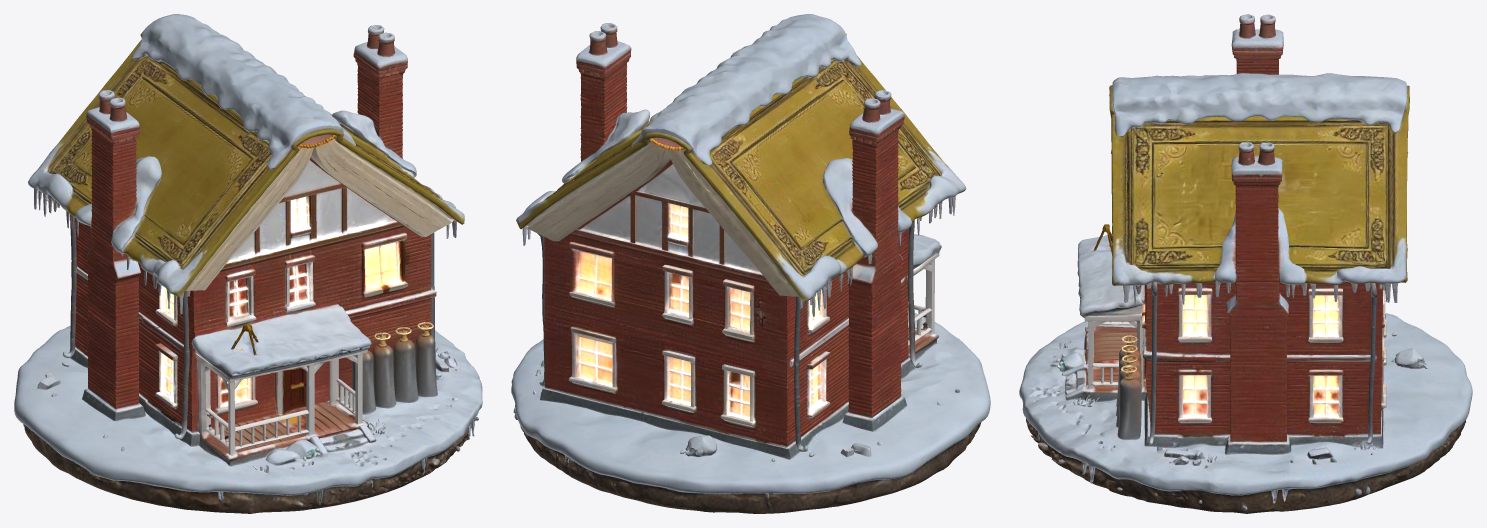
The model's file is poison-belt.glb.
The picture shows the model from 3 angles, left to right: view 1: azimuth 30°, elevation 25°; view 2: azimuth 150°, elevation 25°; view 3: azimuth 270°, elevation 25°; orthographic projection. The views are drawn at different scales.
Visible parts, largest first — view 1: model; view 2: model; view 3: model.
Part boxes in pixels (x1=…): model: x1=14, y1=14, x2=482, y2=513; model: x1=511, y1=14, x2=990, y2=513; model: x1=1019, y1=14, x2=1472, y2=513.
Size of the model in its own units: 1.89 by 1.59 by 1.9.
1 material, 1 textured.
